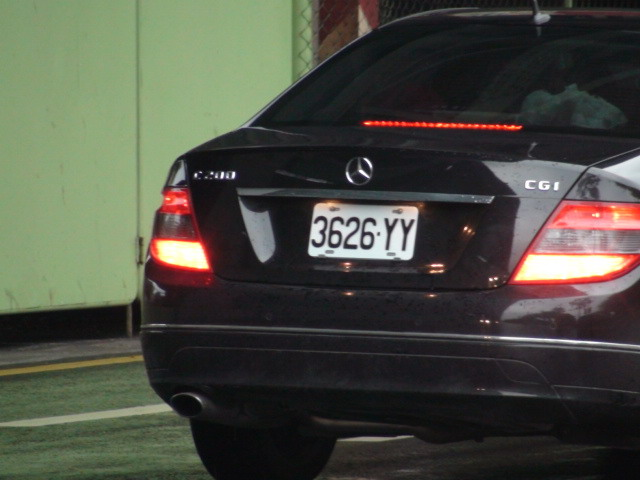plate: (303, 198, 423, 263)
